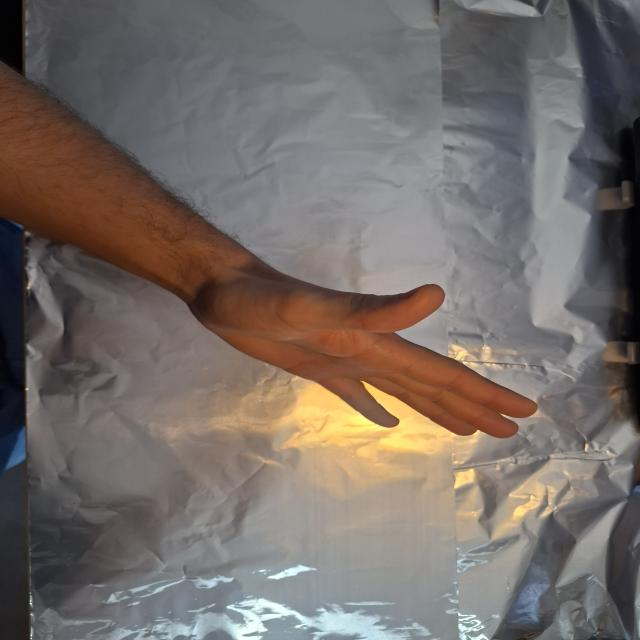glove_off: (185, 278, 541, 440)
